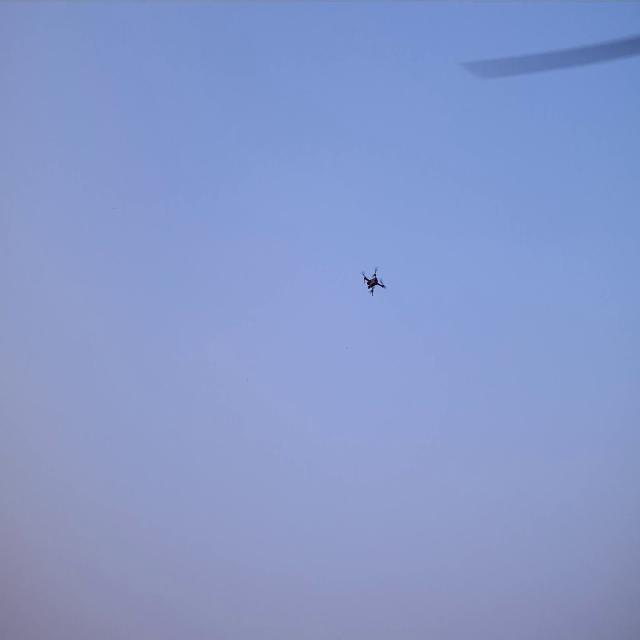UAV: (364, 271, 384, 295)
